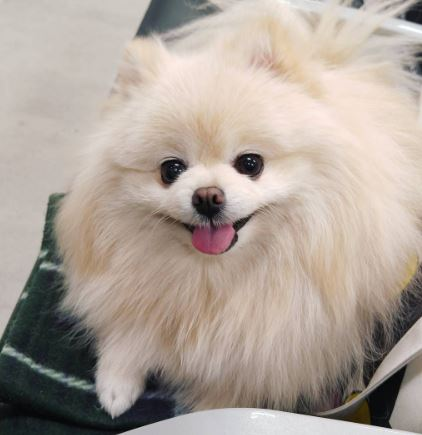pomeranian: (59, 19, 421, 409)
